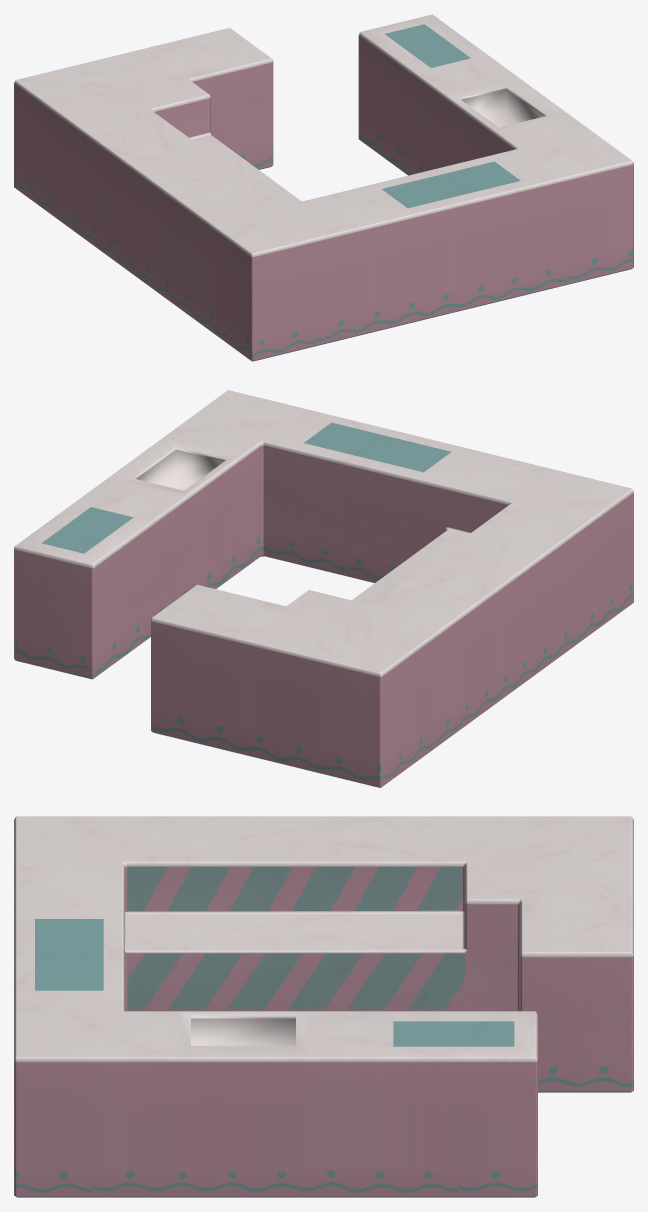
The model's file is Benchtop.fbx.
3 renders of one model, top to bottom at view 1: azimuth 30°, elevation 25°; view 2: azimuth 150°, elevation 25°; view 3: azimuth 270°, elevation 25°, orthographic. The views are drawn at different scales.
Parts seen in each view (by area): view 1: Benchtop1; view 2: Benchtop1; view 3: Benchtop1.
Boxes of the visible parts, box(x1,y1,x2,y2) form: Benchtop1: box(14, 14, 633, 361); Benchtop1: box(14, 390, 633, 787); Benchtop1: box(14, 816, 633, 1197).
Size of the model in its own units: 330 by 89.11 by 356.
